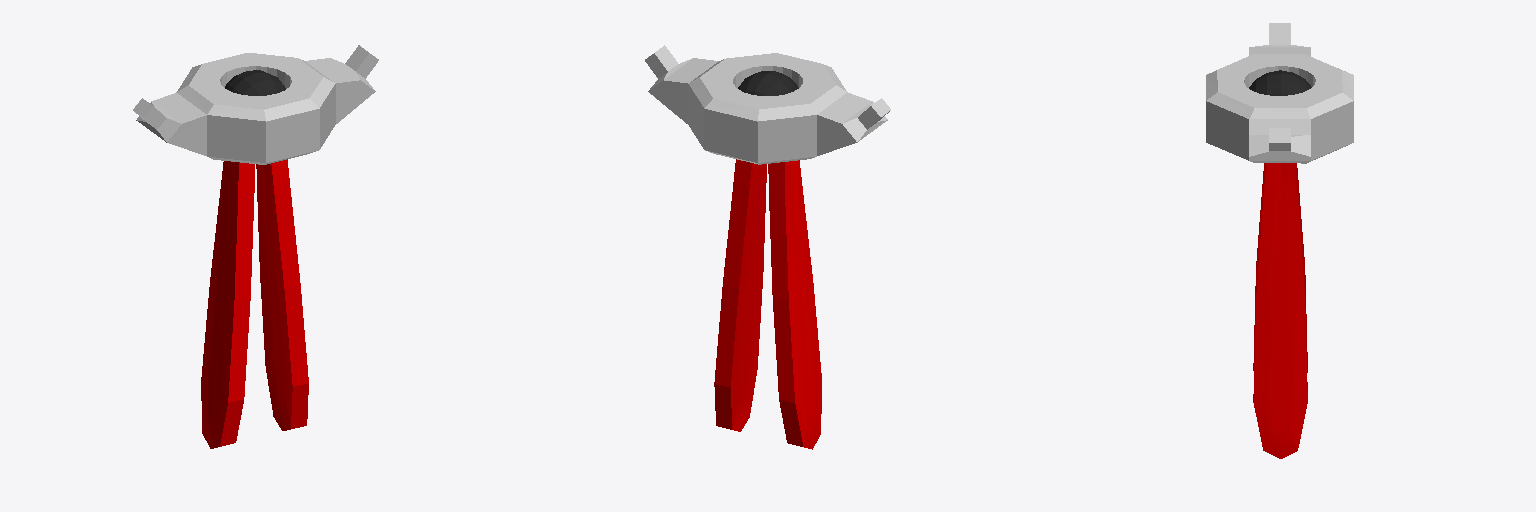
Rendered from robotUpper.obj.
3 renders of one model, left to right at view 1: azimuth 30°, elevation 25°; view 2: azimuth 150°, elevation 25°; view 3: azimuth 270°, elevation 25°, orthographic.
Parts seen in each view (by area): view 1: polySurface74; view 2: polySurface74; view 3: polySurface74.
Part boxes in pixels (left/top/right/bottom): polySurface74: left=133, top=45, right=378, bottom=448; polySurface74: left=645, top=45, right=890, bottom=449; polySurface74: left=1206, top=23, right=1353, bottom=458.
Size of the model in its own units: 4.13 by 6.1 by 2.24.